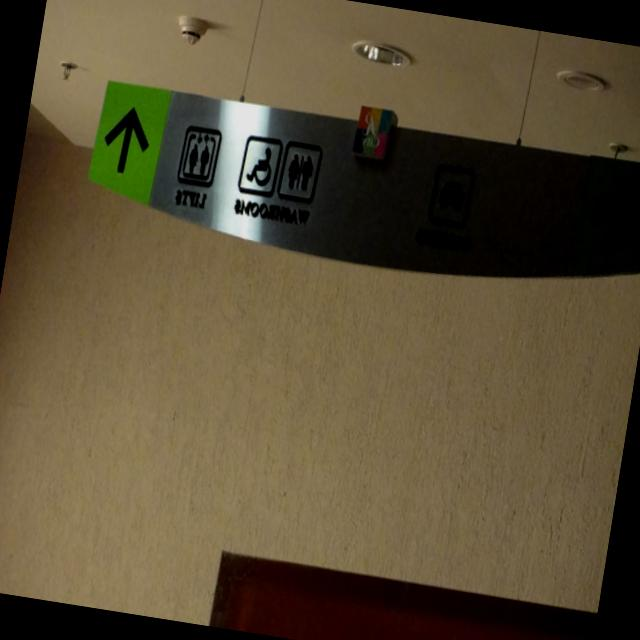lift_icon: (178, 124, 222, 186)
toilet_icon: (235, 130, 326, 206)
